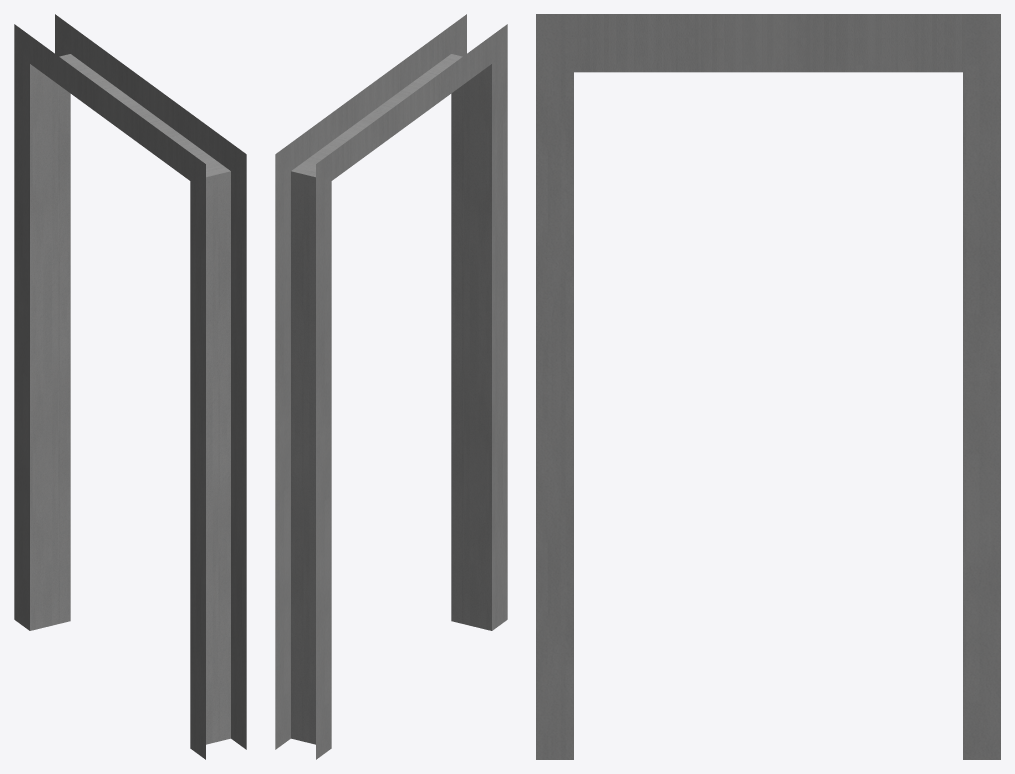
The model's file is warehouse_door_frame.glb.
3 renders of one model, left to right at view 1: azimuth 30°, elevation 25°; view 2: azimuth 150°, elevation 25°; view 3: azimuth 270°, elevation 25°, orthographic. The views are drawn at different scales.
Parts seen in each view (by area): view 1: Cube.247; view 2: Cube.247; view 3: Cube.247.
Boxes of the visible parts, bbox=[...] form: Cube.247: bbox=[14, 14, 246, 759]; Cube.247: bbox=[275, 14, 507, 759]; Cube.247: bbox=[536, 14, 1000, 759].
Bounding box in the file's own units: 0.6 × 8.4 × 4.9.
1 material, 1 textured.
